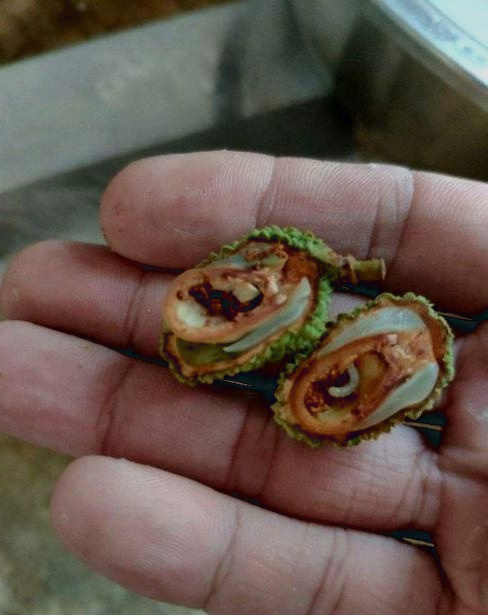Borer: (196, 267, 263, 308), (329, 356, 359, 402)
